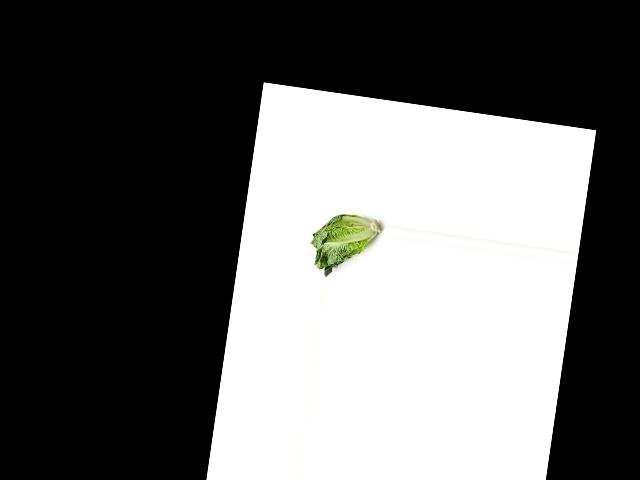lettuce: (304, 206, 381, 282)
